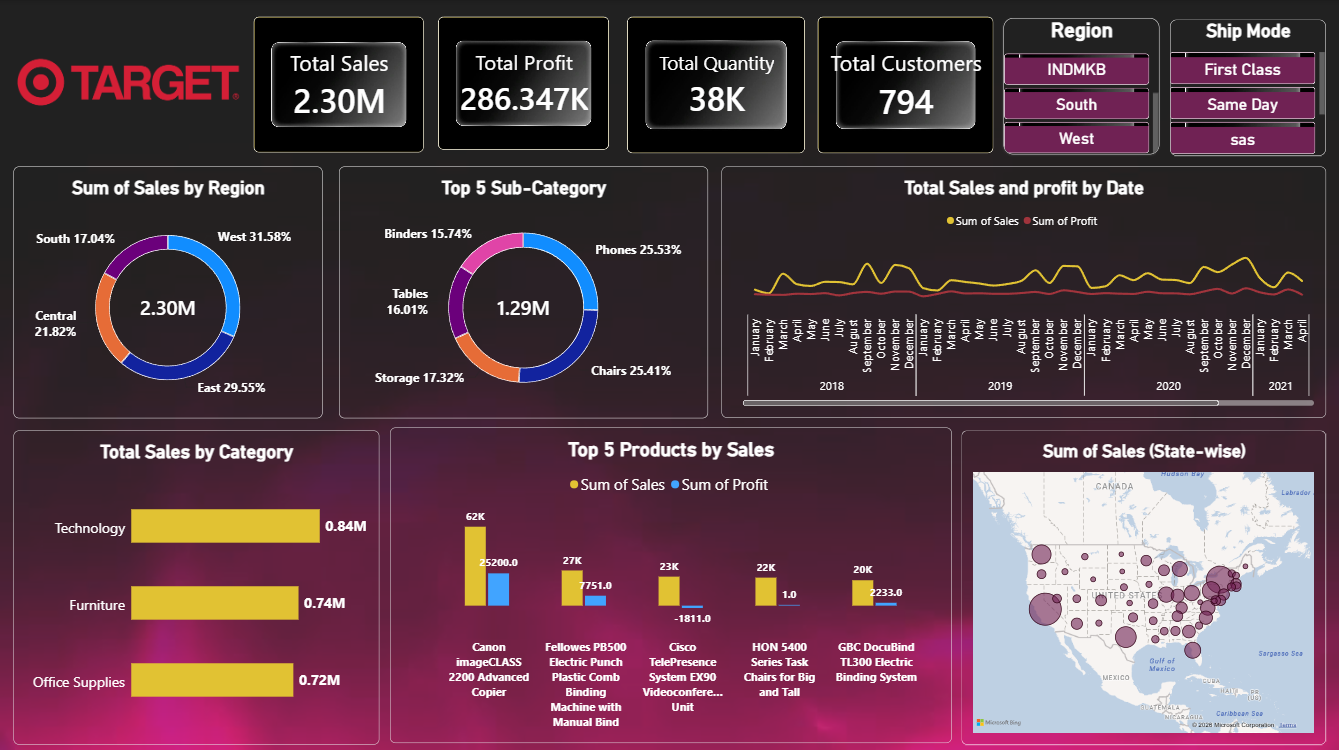

This screenshot's page, from the dashboard's own definition file:
{"tool":"powerbi","page":{"name":"Page 1","canvas":[1920,1080],"ordinal":0},"visuals":[{"type":"donutChart","fields":{"Category":["Orders.Region"],"Y":["Sum(Orders.Sales)"]},"box":[19.3,238.5,442.6,361],"z":0},{"type":"donutChart","title":"Top 5 Sub-Category","fields":{"Category":["Orders.Sub-Category"],"Y":["Sum(Orders.Sales)"]},"box":[485.6,238.5,528.6,361],"z":1000},{"type":"map","title":"Sum of Sales (State-wise)","fields":{"Category":["Orders.State"],"Size":["Sum(Orders.Sales)"]},"box":[1378,616,522,450],"z":2000},{"type":"lineChart","title":"Total Sales and profit by Date","fields":{"Category":["Orders.Order Date.Variation.Date Hierarchy.Year","Orders.Order Date.Variation.Date Hierarchy.Month"],"Y":["Sum(Orders.Sales)","Sum(Orders.Profit)"]},"box":[1034,238,866,360],"z":3000},{"type":"clusteredBarChart","title":"Total Sales by Category","fields":{"Category":["Orders.Category"],"Y":["Sum(Orders.Sales)"]},"box":[20,616,524,450],"z":4000},{"type":"clusteredColumnChart","title":"Top 5 Products by Sales","fields":{"Category":["Orders.Product Name"],"Y":["Sum(Orders.Sales)","Sum(Orders.Profit)"]},"box":[558.6,612.3,804.4,452.2],"z":5000},{"type":"cardVisual","fields":{"Data":["Sum(Orders.Sales)"]},"box":[363.1,23.6,244.9,195.5],"z":6000},{"type":"cardVisual","fields":{"Data":["Sum(Orders.Profit)"]},"box":[628.5,23.6,245.7,191.4],"z":7000},{"type":"cardVisual","fields":{"Data":["Sum(Orders.Quantity)"]},"box":[897.8,23.6,255.2,196.1],"z":8000},{"type":"cardVisual","fields":{"Data":["Count(Orders.Customer ID)"]},"box":[1171,23.6,252,196],"z":9000},{"type":"advancedSlicerVisual","fields":{"Values":["Orders.Region"]},"box":[1437.4,25.8,223.5,195.5],"z":10000},{"type":"advancedSlicerVisual","fields":{"Values":["Orders.Ship Mode"]},"box":[1675.9,27.9,223.5,195.5],"z":11000},{"type":"image","box":[20,24,330,192],"z":12000}]}

Visuals, with their boxes in screenshot pixels (x1, y1, x2, y2), scaled from the page's 1920x1080 canvas onto the 1339x750 screenshot:
donutChart - Orders.Region x Sum(Orders.Sales): <region>13, 166, 322, 416</region>
"Top 5 Sub-Category" donutChart: <region>339, 166, 707, 416</region>
"Sum of Sales (State-wise)" map: <region>961, 428, 1325, 740</region>
"Total Sales and profit by Date" lineChart: <region>721, 165, 1325, 415</region>
"Total Sales by Category" clusteredBarChart: <region>14, 428, 379, 740</region>
"Top 5 Products by Sales" clusteredColumnChart: <region>390, 425, 951, 739</region>
cardVisual - Sum(Orders.Sales): <region>253, 16, 424, 152</region>
cardVisual - Sum(Orders.Profit): <region>438, 16, 610, 149</region>
cardVisual - Sum(Orders.Quantity): <region>626, 16, 804, 153</region>
cardVisual - Count(Orders.Customer ID): <region>817, 16, 992, 152</region>
advancedSlicerVisual - Orders.Region: <region>1002, 18, 1158, 154</region>
advancedSlicerVisual - Orders.Ship Mode: <region>1169, 19, 1325, 155</region>
image: <region>14, 17, 244, 150</region>
